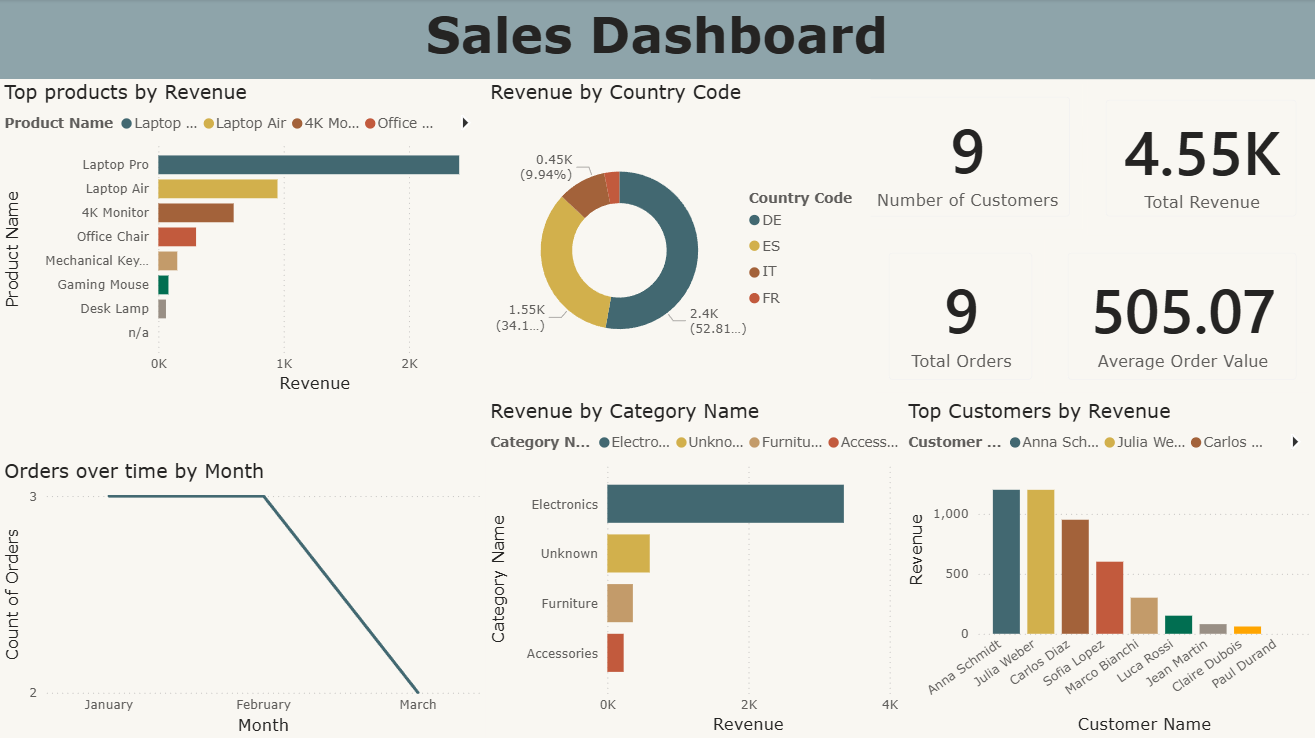

The page's visual inventory and layout, read from the dashboard file:
{"tool":"powerbi","page":{"name":"Page 1","canvas":[1280,720],"ordinal":0},"visuals":[{"type":"cardVisual","fields":{"Data":["Count(dim_customers.Customer_Id)"]},"box":[823.8,77.8,235.4,151.7],"z":0},{"type":"cardVisual","fields":{"Data":["Count(fact_sales.Order_Id)"]},"box":[848.1,229.5,174.1,158.5],"z":1000},{"type":"cardVisual","fields":{"Data":["fact_sales.Average Order Value"]},"box":[1022.2,229.5,257.8,158.5],"z":2000},{"type":"cardVisual","fields":{"Data":["Sum(fact_sales.Price)"]},"box":[1059.2,80.7,220.8,148.8],"z":3000},{"type":"barChart","title":"Revenue by Category Name","fields":{"Category":["dim_products.Category_Name"],"Series":["dim_products.Category_Name"],"Y":["Sum(fact_sales.Price)"]},"box":[472.7,388.1,406.6,331.7],"z":4000},{"type":"textbox","box":[0,0,1280,77.8],"z":5000},{"type":"lineChart","title":"Orders over time by Month","fields":{"Category":["fact_sales.Order_Date.Variation.Date Hierarchy.Month"],"Y":["Count(fact_sales.Order_Id)"]},"box":[0,446.4,472.7,273.3],"z":6000},{"type":"barChart","title":"Top products by Revenue","fields":{"Series":["dim_products.Product_Name"],"Category":["dim_products.Product_Name"],"Y":["Sum(fact_sales.Price)"]},"box":[0,77.8,472.7,310.3],"z":7000},{"type":"donutChart","title":"Revenue by Country Code","fields":{"Category":["dim_customers.Country_Code"],"Y":["Sum(fact_sales.Price)"]},"box":[472.7,77.8,375.4,310.3],"z":8000},{"type":"columnChart","title":"Top Customers by Revenue","fields":{"Category":["dim_customers.Customer_Name"],"Series":["dim_customers.Customer_Name"],"Y":["Sum(fact_sales.Price)"]},"box":[879.3,388.1,400.7,331.7],"z":9000}]}

Visuals, with their boxes in screenshot pixels (x1, y1, x2, y2), scaled from the page's 1280x720 canvas onto the 1315x738 screenshot:
cardVisual - Count(dim_customers.Customer_Id): rect(846, 80, 1088, 235)
cardVisual - Count(fact_sales.Order_Id): rect(871, 235, 1050, 398)
cardVisual - fact_sales.Average Order Value: rect(1050, 235, 1314, 398)
cardVisual - Sum(fact_sales.Price): rect(1088, 83, 1314, 235)
"Revenue by Category Name" barChart: rect(486, 398, 903, 737)
textbox: rect(0, 0, 1314, 80)
"Orders over time by Month" lineChart: rect(0, 458, 486, 737)
"Top products by Revenue" barChart: rect(0, 80, 486, 398)
"Revenue by Country Code" donutChart: rect(486, 80, 871, 398)
"Top Customers by Revenue" columnChart: rect(903, 398, 1314, 737)
